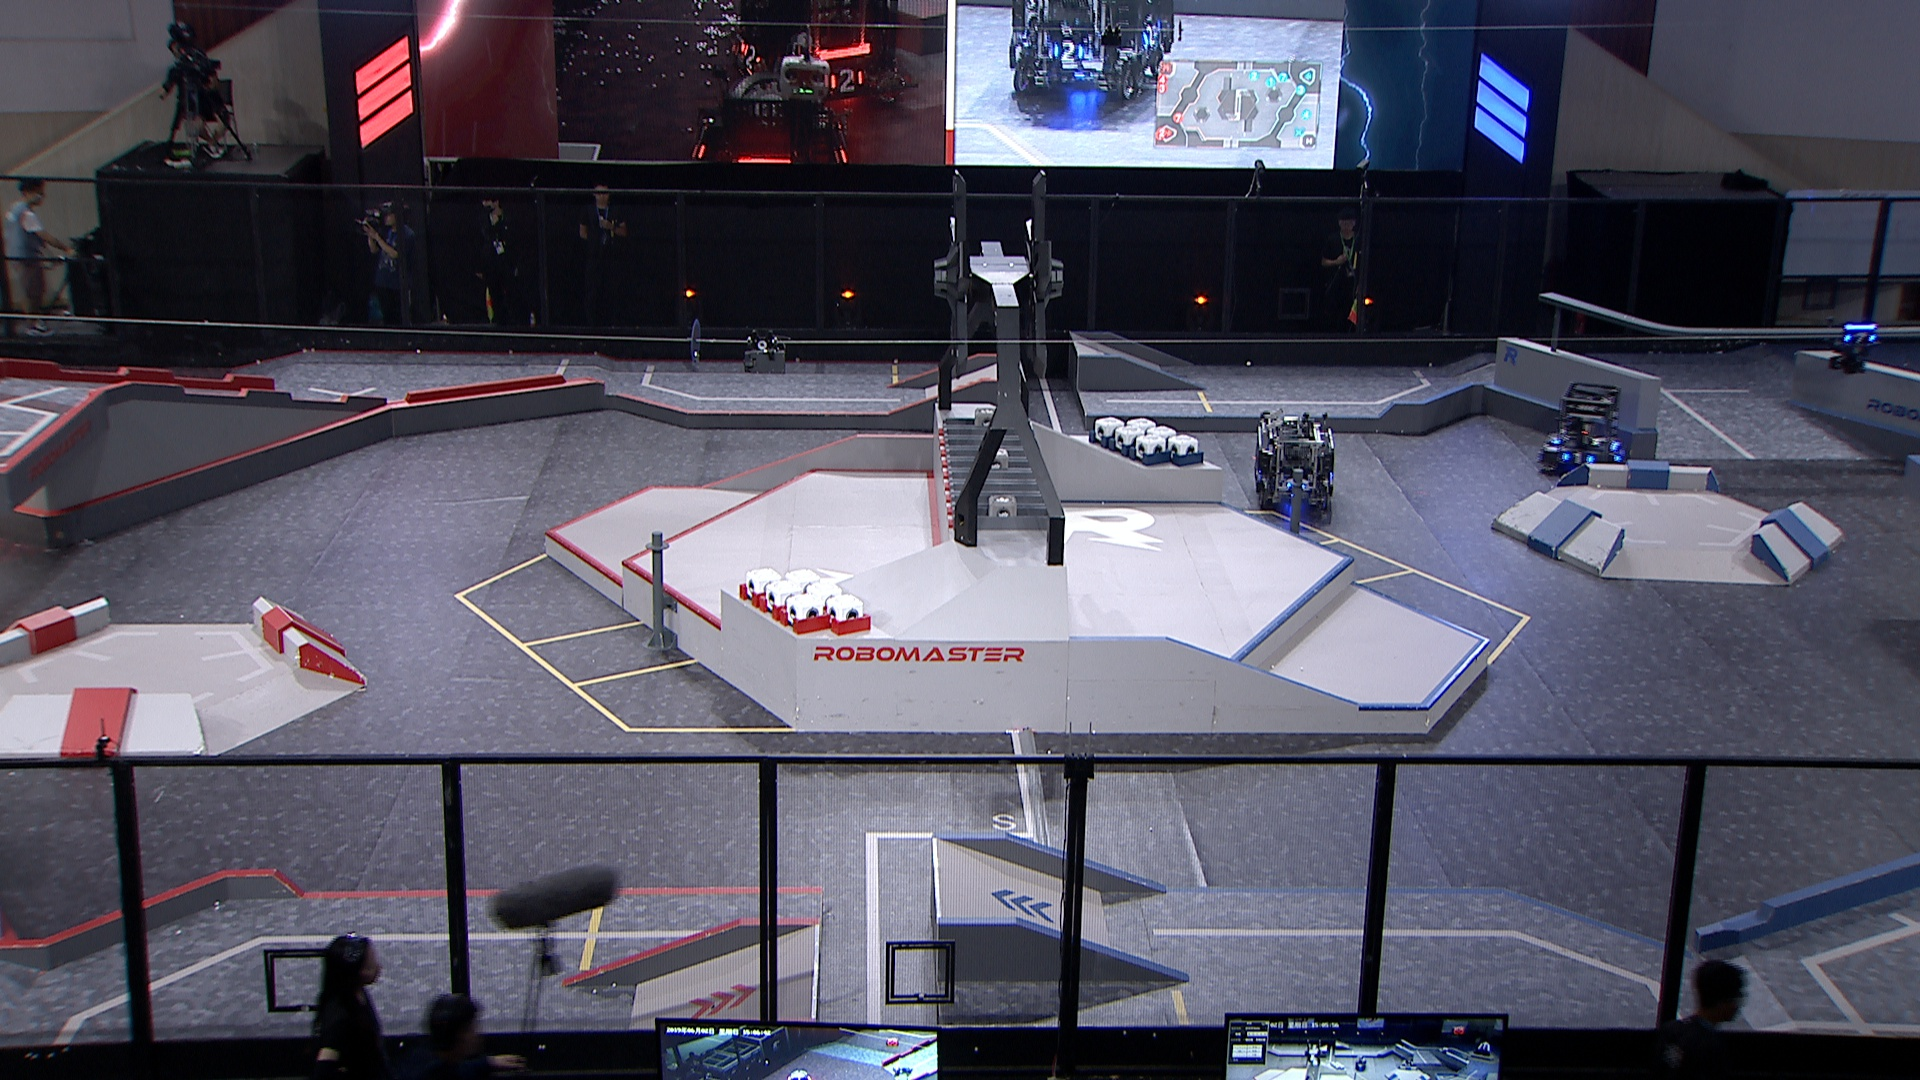armor: (1560, 451, 1596, 465), (1842, 332, 1878, 345)
car: (1534, 382, 1631, 479), (1250, 409, 1338, 512)
ignore: (1007, 0, 1176, 102), (690, 80, 851, 166)
watcher: (1825, 313, 1878, 375)
